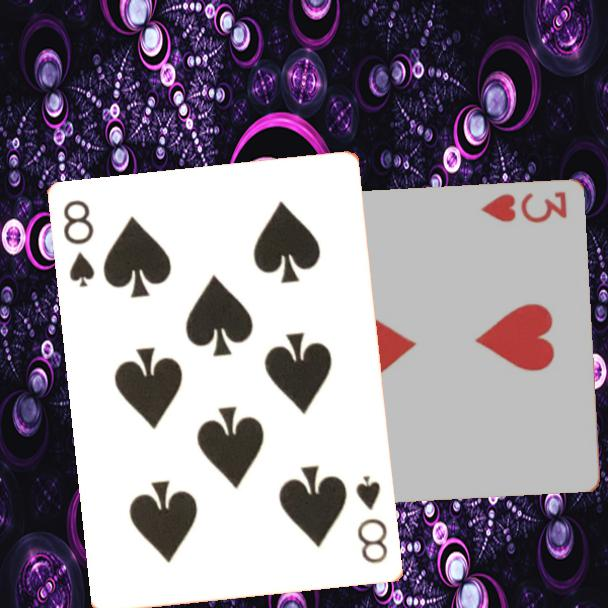h03: (476, 188, 570, 227)
s08: (353, 472, 391, 567), (60, 196, 98, 291)
